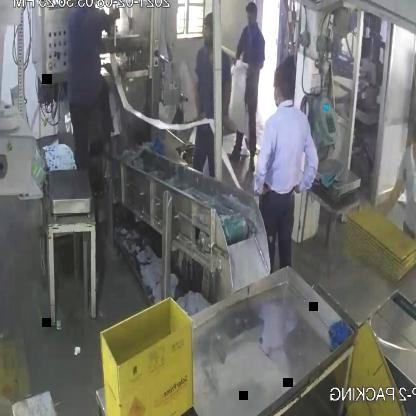no_glove: (252, 124, 277, 203), (292, 138, 318, 200), (372, 166, 402, 218), (406, 192, 416, 252)
